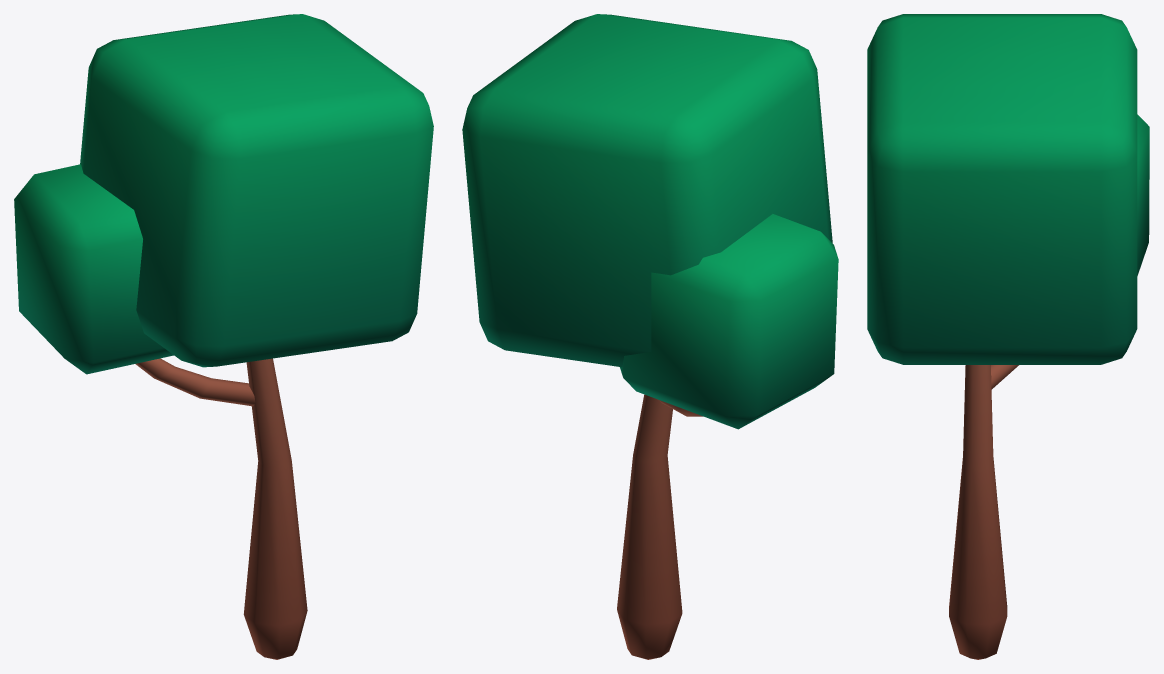
File: Tree_2_A_Color2.fbx
3 views of the same model, side by side, from view 1: azimuth 30°, elevation 25°; view 2: azimuth 150°, elevation 25°; view 3: azimuth 270°, elevation 25° (orthographic). The views are drawn at different scales.
Visible parts, largest first — view 1: Tree_2_A_Color2; view 2: Tree_2_A_Color2; view 3: Tree_2_A_Color2.
Boxes of the visible parts, <box> form: Tree_2_A_Color2: <box>14,14,433,659</box>; Tree_2_A_Color2: <box>462,14,838,659</box>; Tree_2_A_Color2: <box>867,14,1149,659</box>.
Bounding box in the file's own units: 2.6 × 4.67 × 2.
